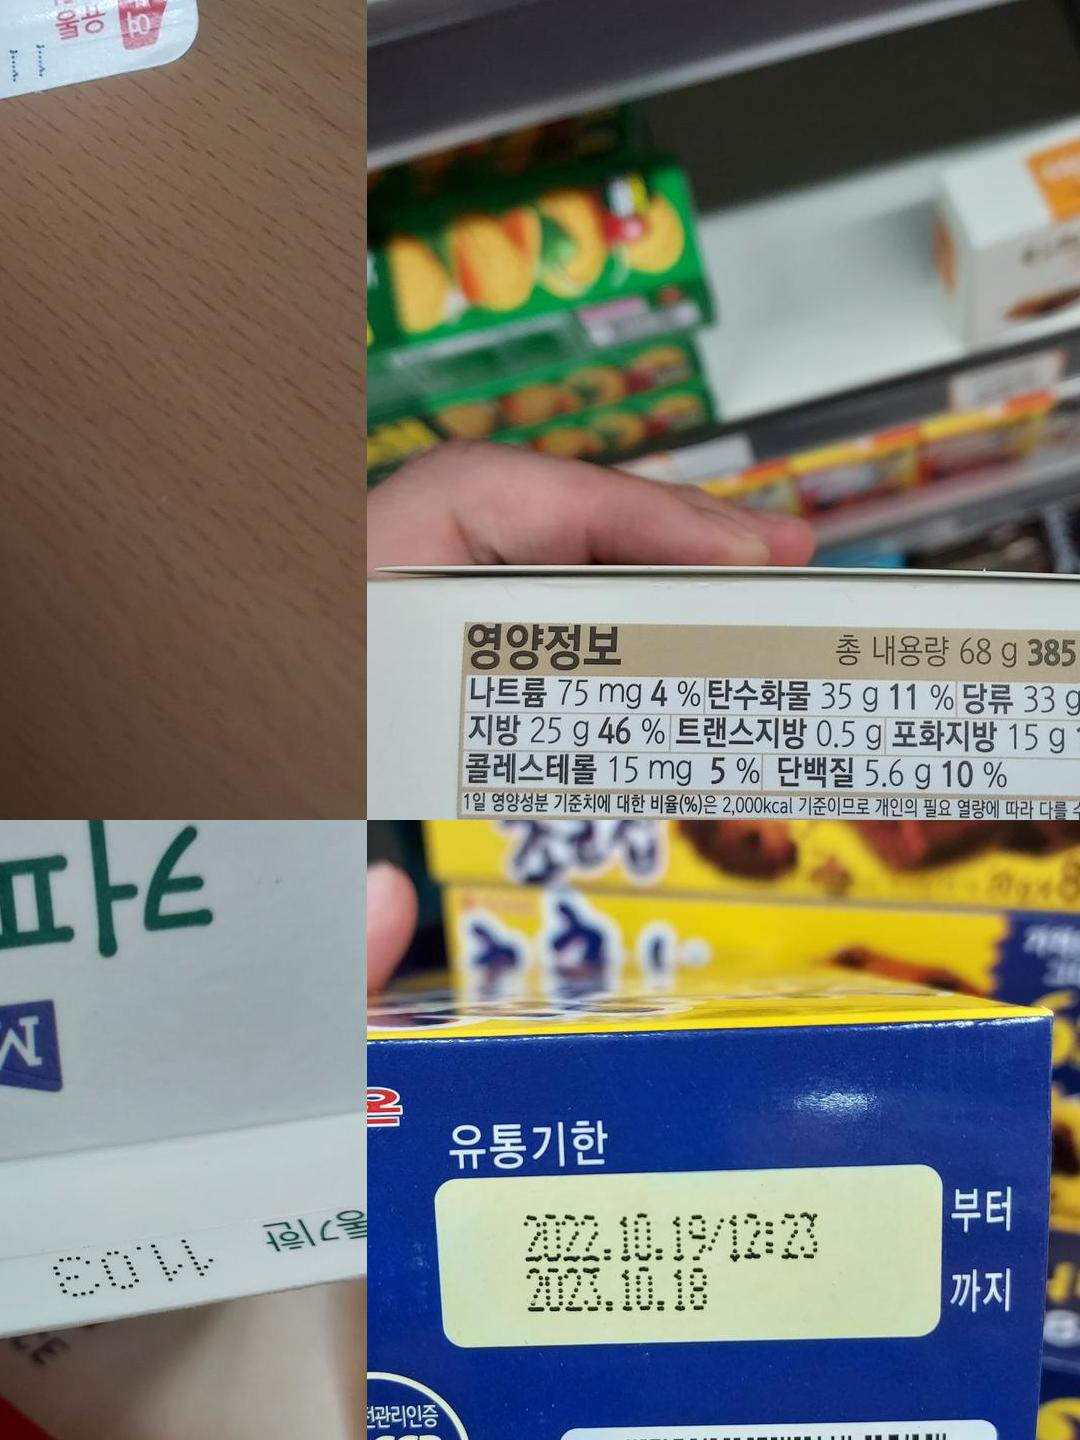milk: (0, 1111, 368, 1346), (0, 0, 360, 152)
snack food: (439, 1176, 937, 1337)
